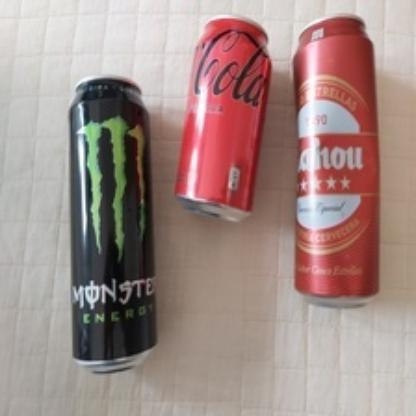Can: (69, 75, 157, 373), (292, 14, 380, 310), (173, 14, 274, 222)
